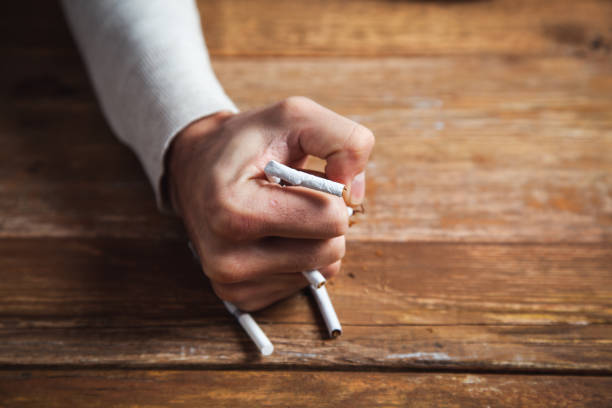cigarette: (263, 161, 345, 198), (226, 300, 277, 359), (312, 287, 344, 338), (299, 266, 328, 289)
